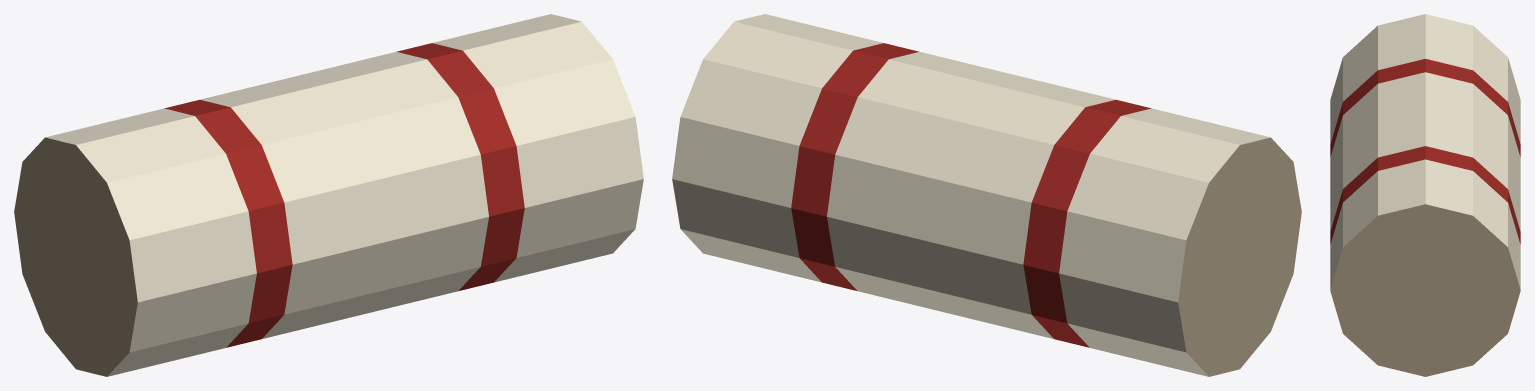
Rendered from Kiyiz_Pickup.obj.
3 renders of one model, left to right at view 1: azimuth 30°, elevation 25°; view 2: azimuth 150°, elevation 25°; view 3: azimuth 270°, elevation 25°, orthographic. The views are drawn at different scales.
Parts seen in each view (by area): view 1: Kiyiz_Pickup; view 2: Kiyiz_Pickup; view 3: Kiyiz_Pickup.
Boxes of the visible parts, <box> form: Kiyiz_Pickup: <box>14,14,643,376</box>; Kiyiz_Pickup: <box>672,14,1301,376</box>; Kiyiz_Pickup: <box>1330,14,1520,376</box>.
Bounding box in the file's own units: 1.7 × 0.72 × 0.72.
